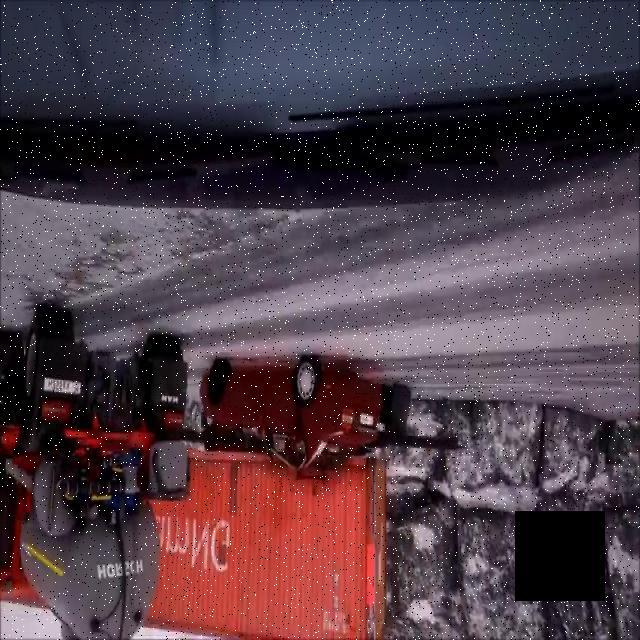severe: (0, 347, 395, 640)
